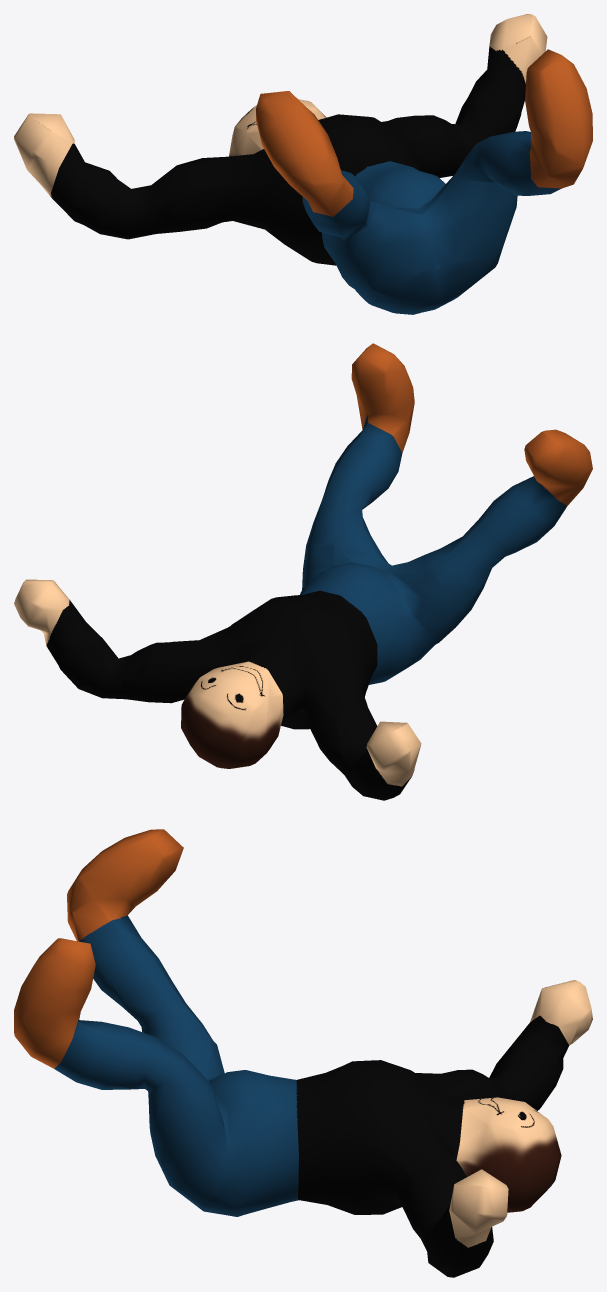
File: humanoid.fbx
3 views of the same model, one above another, from view 1: azimuth 30°, elevation 25°; view 2: azimuth 150°, elevation 25°; view 3: azimuth 270°, elevation 25° (orthographic). The views are drawn at different scales.
Visible parts, largest first — view 1: Humanoid; view 2: Humanoid; view 3: Humanoid.
Boxes of the visible parts, x1,y1,x2,y2 form: Humanoid: (14, 14, 592, 314); Humanoid: (14, 343, 592, 800); Humanoid: (14, 829, 592, 1277).
Bounding box in the file's own units: 29.58 × 17.34 × 30.17.
Materials: 1 (1 with a texture image).
